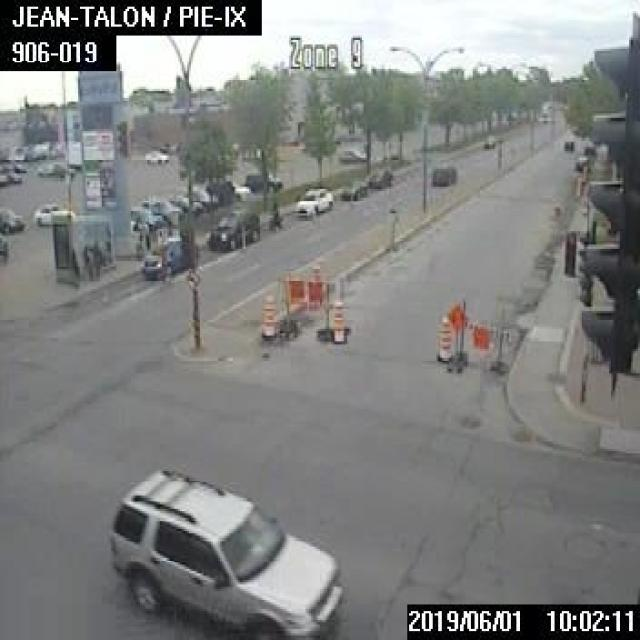construction: (444, 297, 508, 375), (273, 264, 331, 338), (434, 313, 452, 359), (259, 289, 275, 337), (330, 298, 345, 344)
pedestrian: (90, 239, 100, 277), (80, 241, 88, 279)
vehicle: (108, 466, 342, 638), (140, 238, 197, 278), (206, 210, 259, 250), (293, 185, 331, 214), (175, 186, 216, 210), (141, 196, 181, 219), (33, 203, 73, 225), (244, 170, 281, 193), (129, 206, 161, 230), (166, 194, 201, 214), (0, 206, 24, 232), (338, 176, 366, 198), (36, 161, 72, 177), (429, 163, 455, 184), (366, 166, 392, 186), (266, 200, 282, 229), (337, 147, 365, 162), (144, 148, 168, 162), (230, 180, 249, 197), (0, 233, 7, 262), (574, 155, 588, 169), (482, 134, 494, 147), (563, 139, 574, 150), (582, 142, 594, 152)
